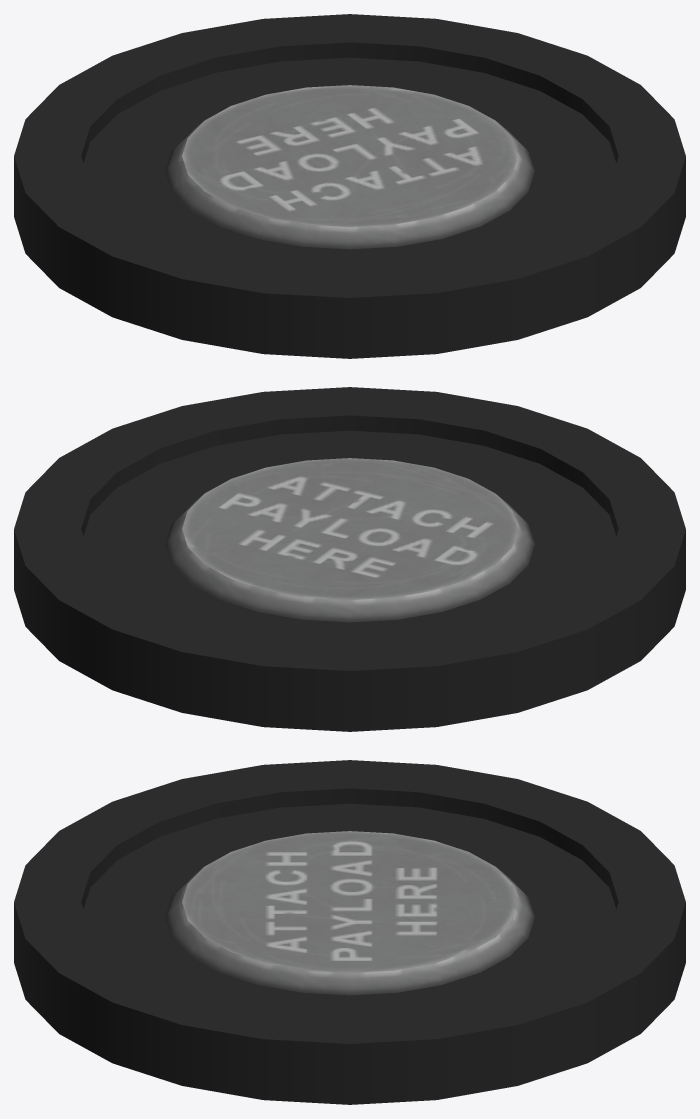
File: canopus_fairing_s1_1.obj
The picture shows the model from 3 angles, top to bottom: view 1: azimuth 30°, elevation 25°; view 2: azimuth 150°, elevation 25°; view 3: azimuth 270°, elevation 25°; orthographic projection.
Parts seen in each view (by area): view 1: canopus_fairing_s1_1; view 2: canopus_fairing_s1_1; view 3: canopus_fairing_s1_1.
Boxes of the visible parts, x1=… form: canopus_fairing_s1_1: x1=14, y1=14, x2=685, y2=358; canopus_fairing_s1_1: x1=14, y1=387, x2=685, y2=731; canopus_fairing_s1_1: x1=14, y1=760, x2=685, y2=1104.
Size of the model in its own units: 1.25 by 0.125 by 1.25.
